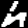h: (0, 0, 28, 28)
